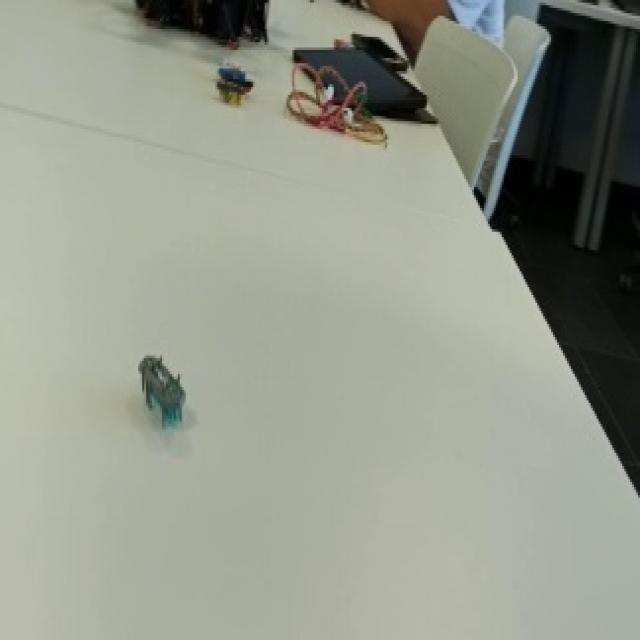5_NanoBug_GrisClaro: (122, 338, 220, 452)
